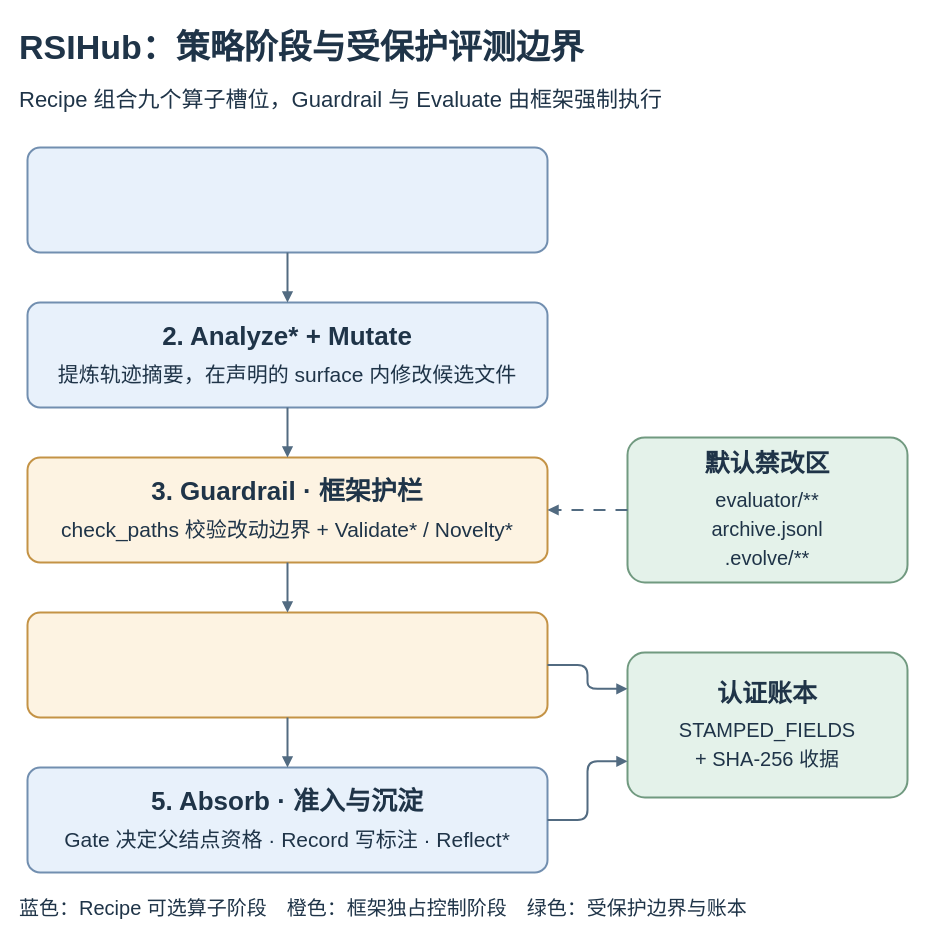
Some shapes in this 934 by 944 pixel diagram are drawn without their labels. The shapes that lost their labels are listed below. From the top down, each one's centre as x and y in pixels, then its label:
At point (287, 199): "1. Select + Rollout 挑选认证父结点 SHA，仅在 Train 划分上收集证据".
At point (287, 664): "4. Evaluate · 框架独占评测 干净快照 gen/N 在 Gate 上评测，不挂载算子".
